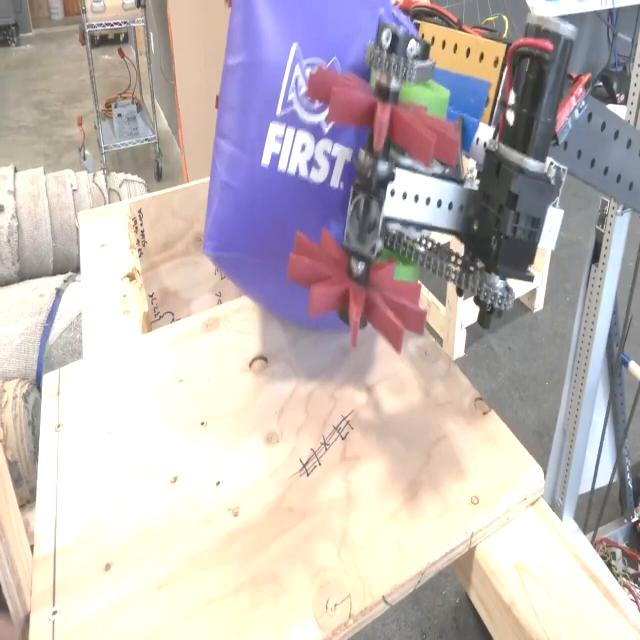frc_cube: (209, 0, 408, 343)
